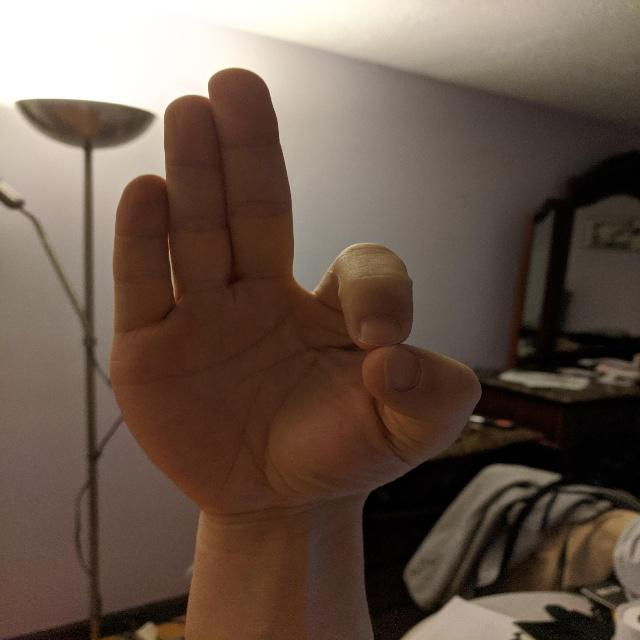F: (106, 64, 487, 504)
